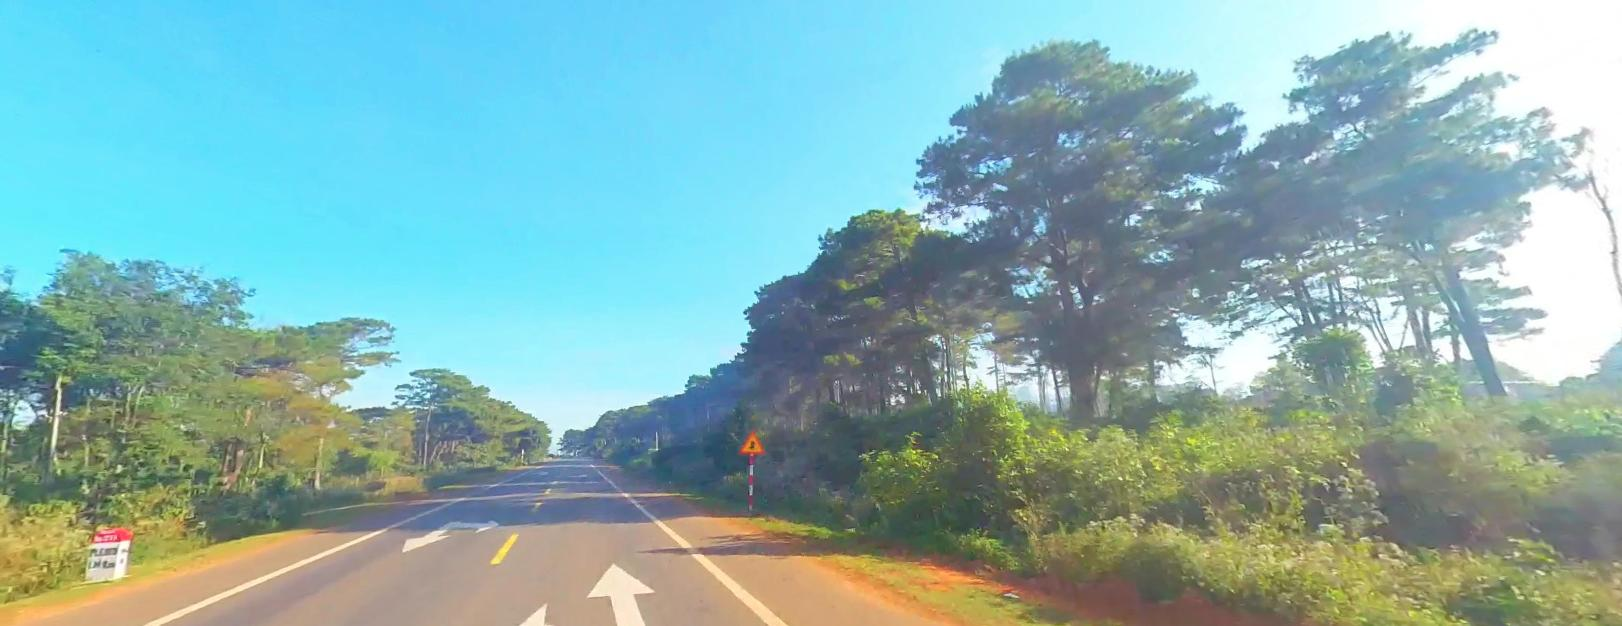Nguy hiem: (739, 429, 766, 453)
